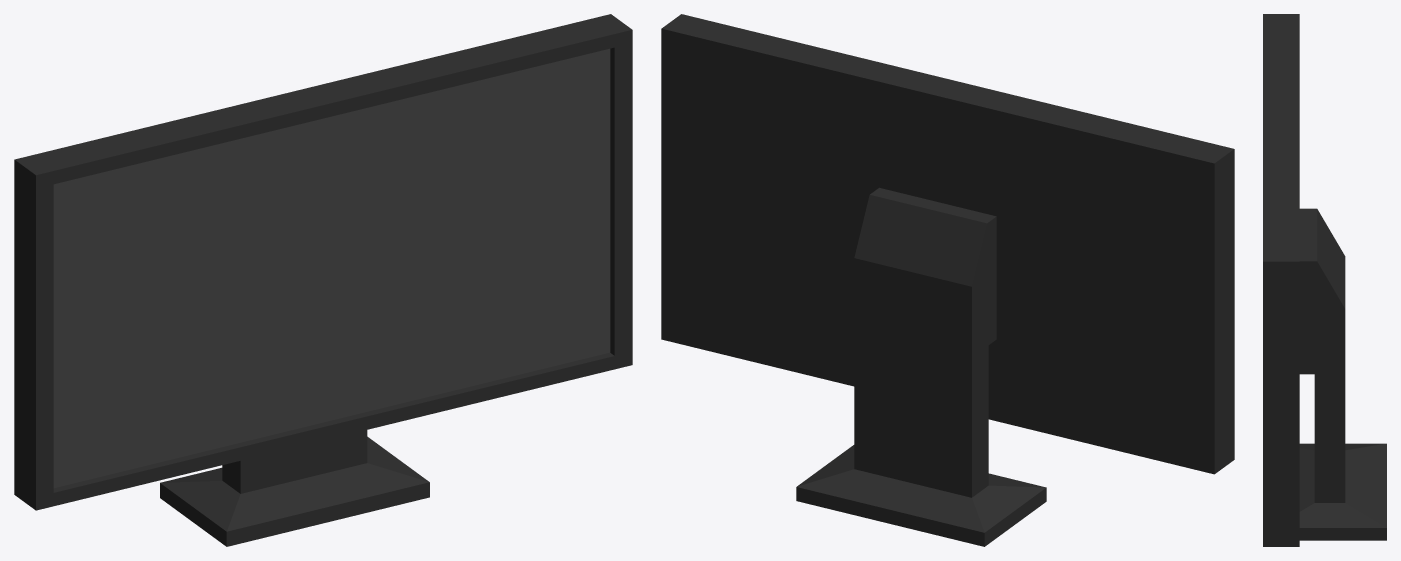
3 views of the same model, side by side, from view 1: azimuth 30°, elevation 25°; view 2: azimuth 150°, elevation 25°; view 3: azimuth 270°, elevation 25° (orthographic). The views are drawn at different scales.
Parts seen in each view (by area): view 1: TV; view 2: TV; view 3: TV.
Part boxes in pixels (<box>): TV: <box>14,14,632,546</box>; TV: <box>661,14,1234,546</box>; TV: <box>1263,14,1386,546</box>.
Bounding box in the file's own units: 232 × 158 × 49.11.
